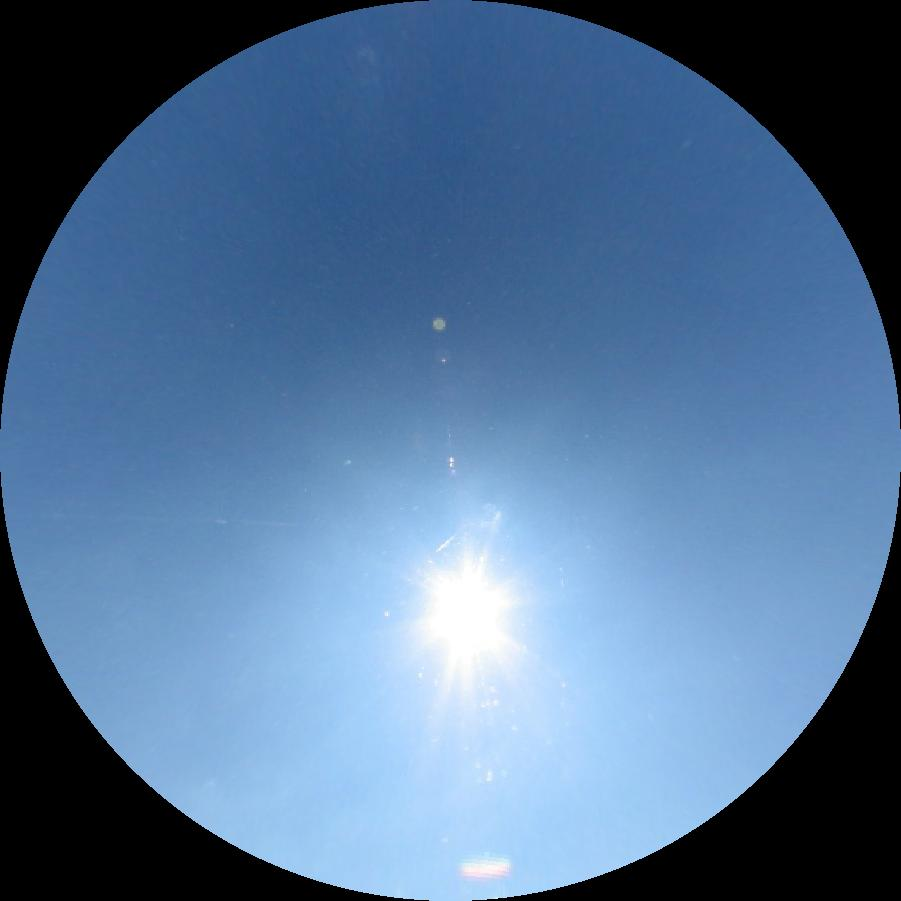contrail young: (435, 532, 459, 553)
parasite: (4, 512, 313, 526)
sun: (422, 554, 510, 674)
